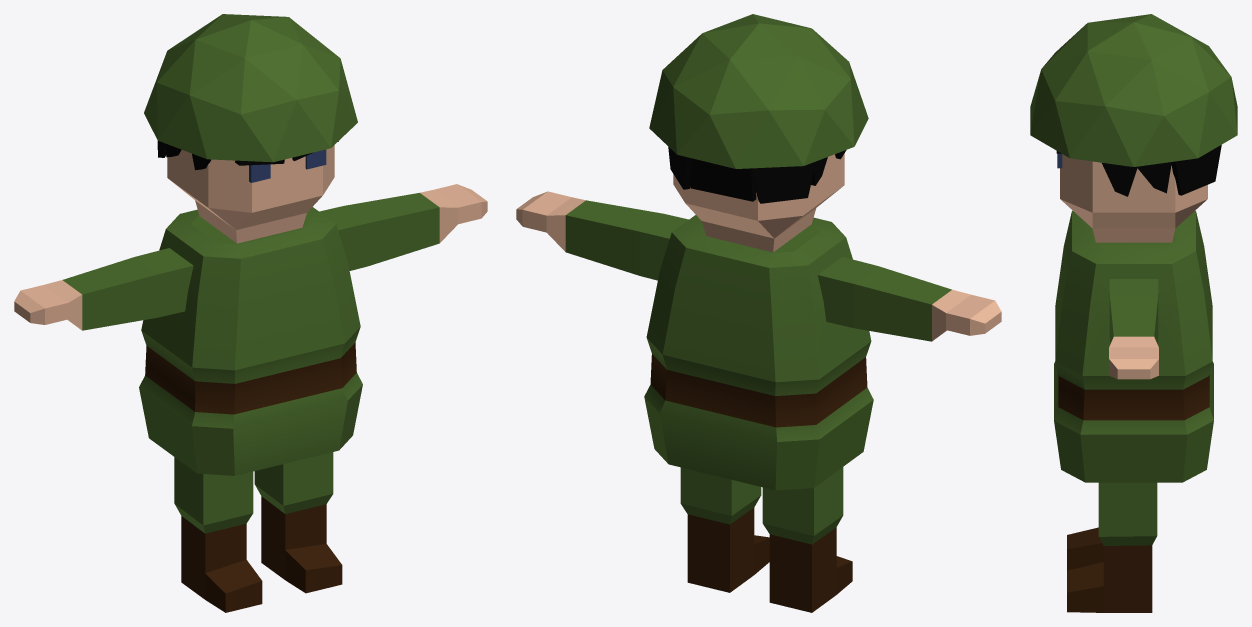
The model's file is MainCharacter.fbx.
3 renders of one model, left to right at view 1: azimuth 30°, elevation 25°; view 2: azimuth 150°, elevation 25°; view 3: azimuth 270°, elevation 25°, orthographic. The views are drawn at different scales.
Parts seen in each view (by area): view 1: тіло; view 2: тіло; view 3: тіло.
Boxes of the visible parts, <box> form: тіло: <box>14,14,487,612</box>; тіло: <box>516,14,1001,612</box>; тіло: <box>1030,14,1237,612</box>.
Bounding box in the file's own units: 453 × 524 × 176.
